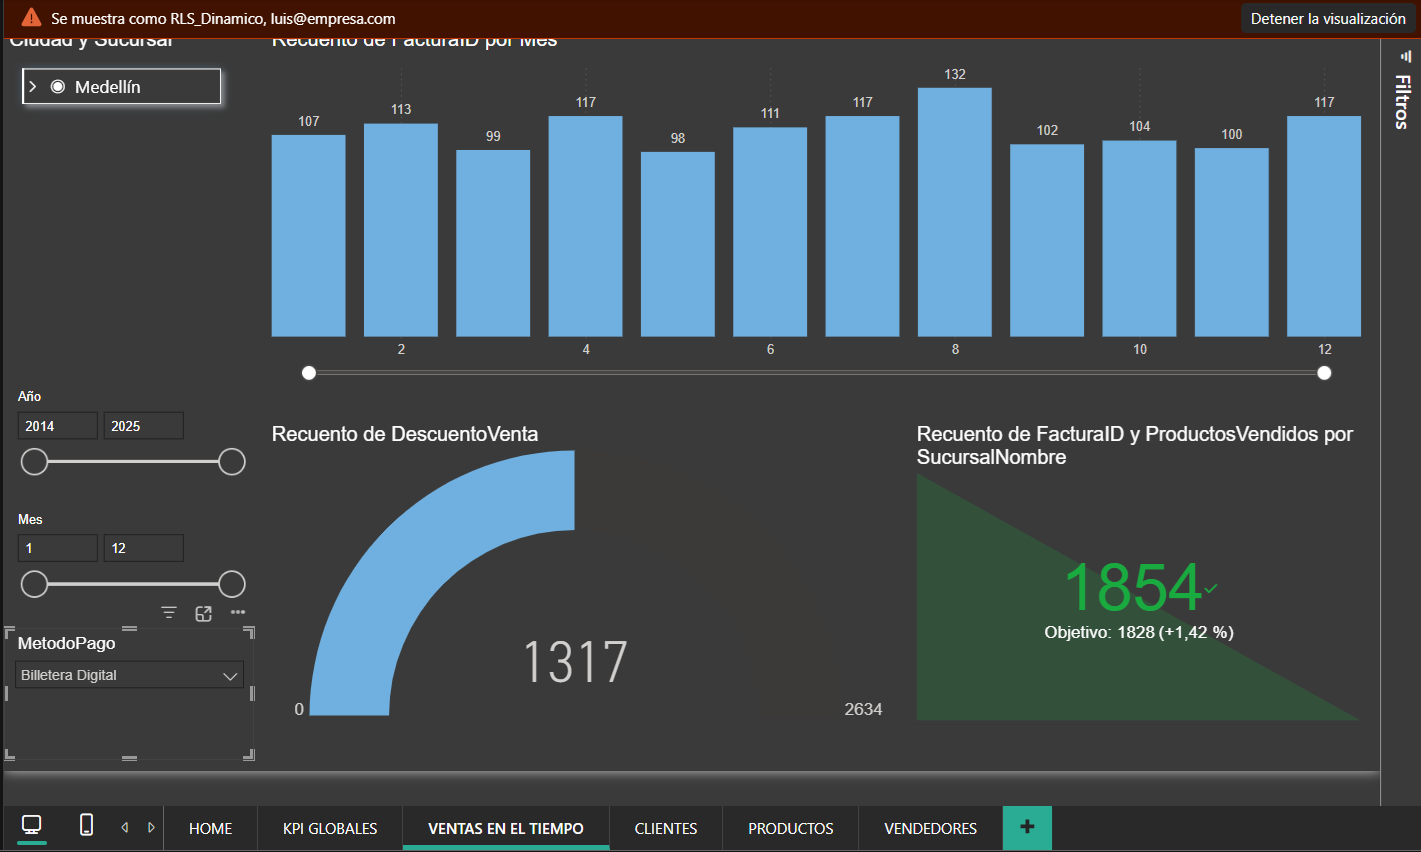

The page's visual inventory and layout, read from the dashboard file:
{"tool":"powerbi","page":{"name":"VENTAS EN EL TIEMPO ","canvas":[1280,720],"ordinal":2},"visuals":[{"type":"columnChart","fields":{"Category":["Facturas.Mes"],"Y":["CountNonNull(Facturas.FacturaID)"]},"box":[244.2,28.2,1023.3,331.3],"z":0},{"type":"gauge","fields":{"Y":["CountNonNull(Facturas.DescuentoVenta)"]},"box":[244.2,395.1,600,282.2],"z":1000},{"type":"listSlicer","title":"Ciudad y Sucursal","fields":{"Values":["Sucursales.Ciudad","Sucursales.Jerarquia Ubicacion.Ciudad","Sucursales.Jerarquia Ubicacion.SucursalNombre"]},"box":[0,28.2,219.6,492],"z":2000},{"type":"slicer","fields":{"Values":["Facturas.Año"]},"box":[0,359.5,233.1,114.1],"z":3000},{"type":"slicer","fields":{"Values":["Facturas.Mes"]},"box":[0,473.6,233.1,125.2],"z":4000},{"type":"slicer","fields":{"Values":["Facturas.MetodoPago"]},"box":[0,586.5,233.1,122.7],"z":5000},{"type":"kpi","fields":{"Indicator":["CountNonNull(DetalleFacturas.FacturaID)"],"TrendLine":["Sucursales.SucursalNombre"],"Goal":["DetalleFacturas.ProductosVendidos"]},"box":[844,395,423,282],"z":6000}]}

Visuals, with their boxes on the page's 1280x720 design canvas (x1, y1, x2, y2). These are canvas units, not pixel positions in the 1421x852 screenshot, which may show the page scaled, cropped or inside an application window:
columnChart - Facturas.Mes x CountNonNull(Facturas.FacturaID): detection(244, 28, 1268, 360)
gauge - CountNonNull(Facturas.DescuentoVenta): detection(244, 395, 844, 677)
"Ciudad y Sucursal" listSlicer: detection(0, 28, 220, 520)
slicer - Facturas.Año: detection(0, 360, 233, 474)
slicer - Facturas.Mes: detection(0, 474, 233, 599)
slicer - Facturas.MetodoPago: detection(0, 586, 233, 709)
kpi - CountNonNull(DetalleFacturas.FacturaID) x Sucursales.SucursalNombre: detection(844, 395, 1267, 677)
